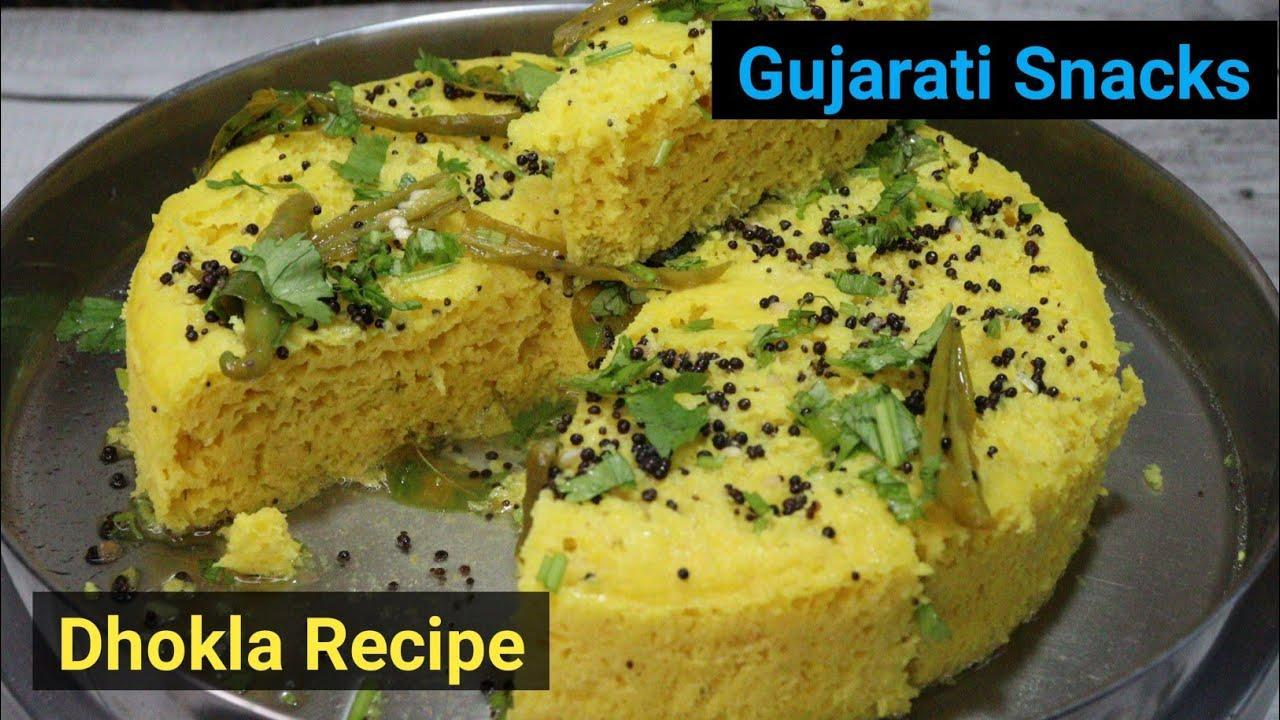dhokla: (124, 0, 1100, 694)
